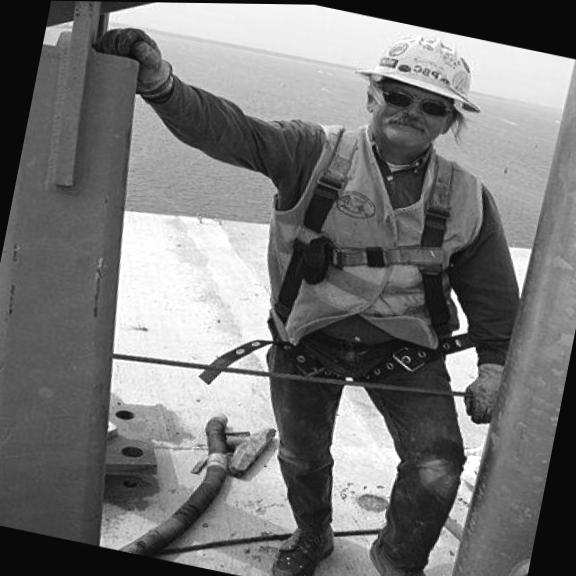safety_vest: (244, 110, 510, 387)
